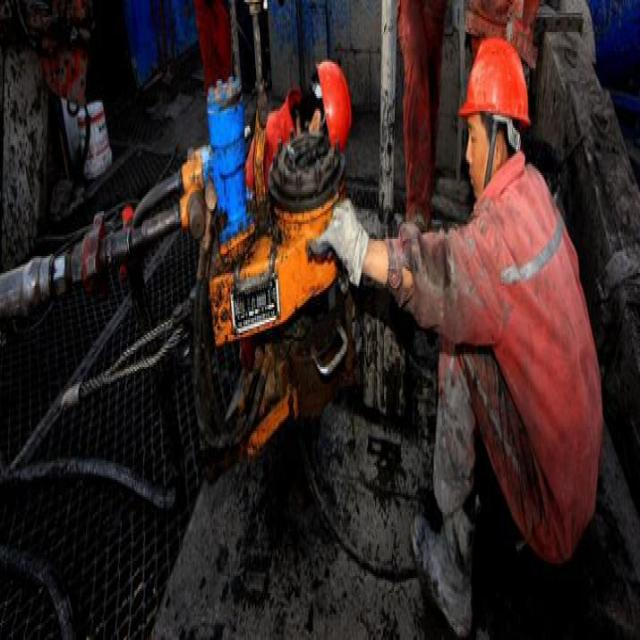helmet: (452, 28, 535, 198), (292, 60, 354, 164)
